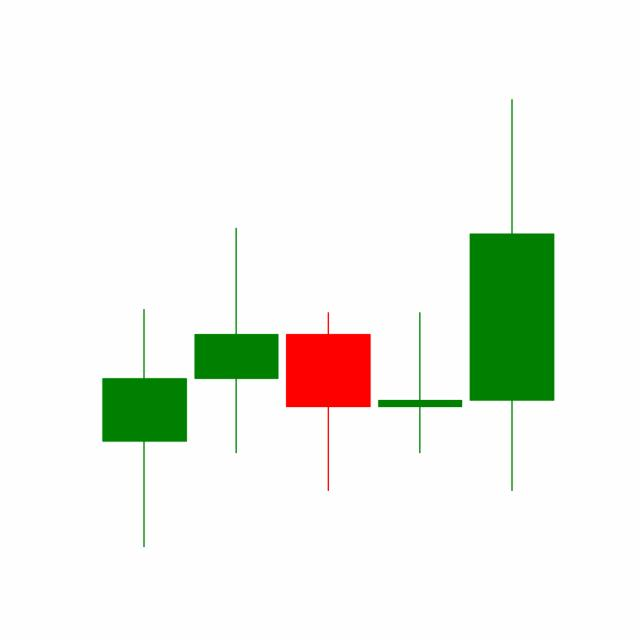Gravestone Doji: (373, 310, 467, 455)
